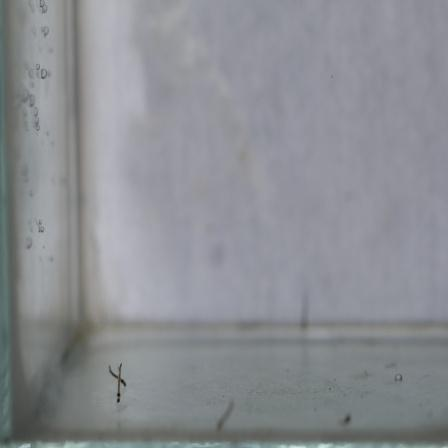Jentik-Nyamuk: (104, 358, 132, 408)
